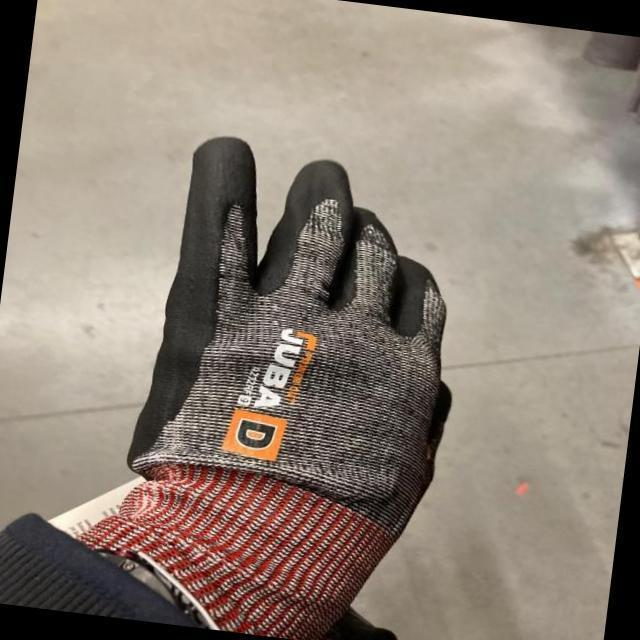Gloves: (117, 130, 450, 638)
